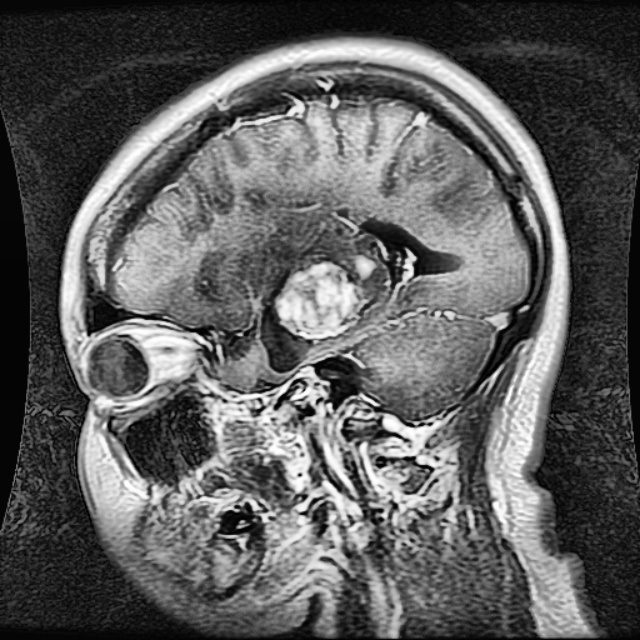Meningioma: (259, 262, 363, 374)
